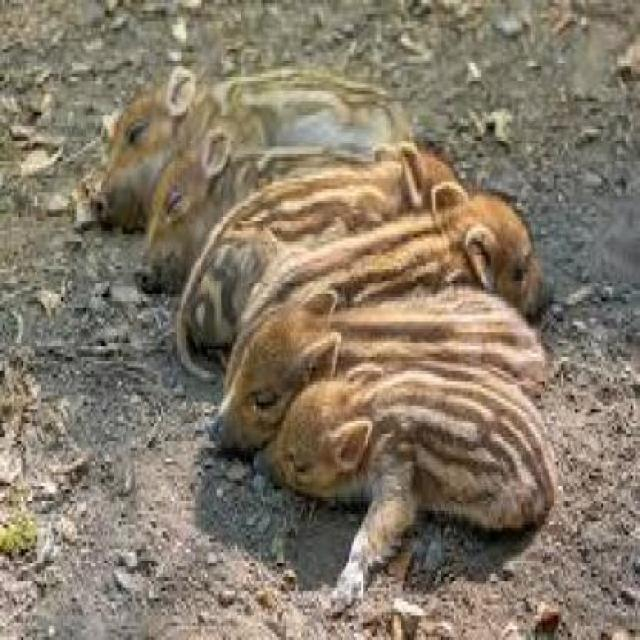wildboar: (252, 354, 563, 620), (182, 181, 556, 368), (206, 278, 560, 464), (128, 132, 498, 300), (84, 64, 418, 242), (176, 138, 478, 293)
